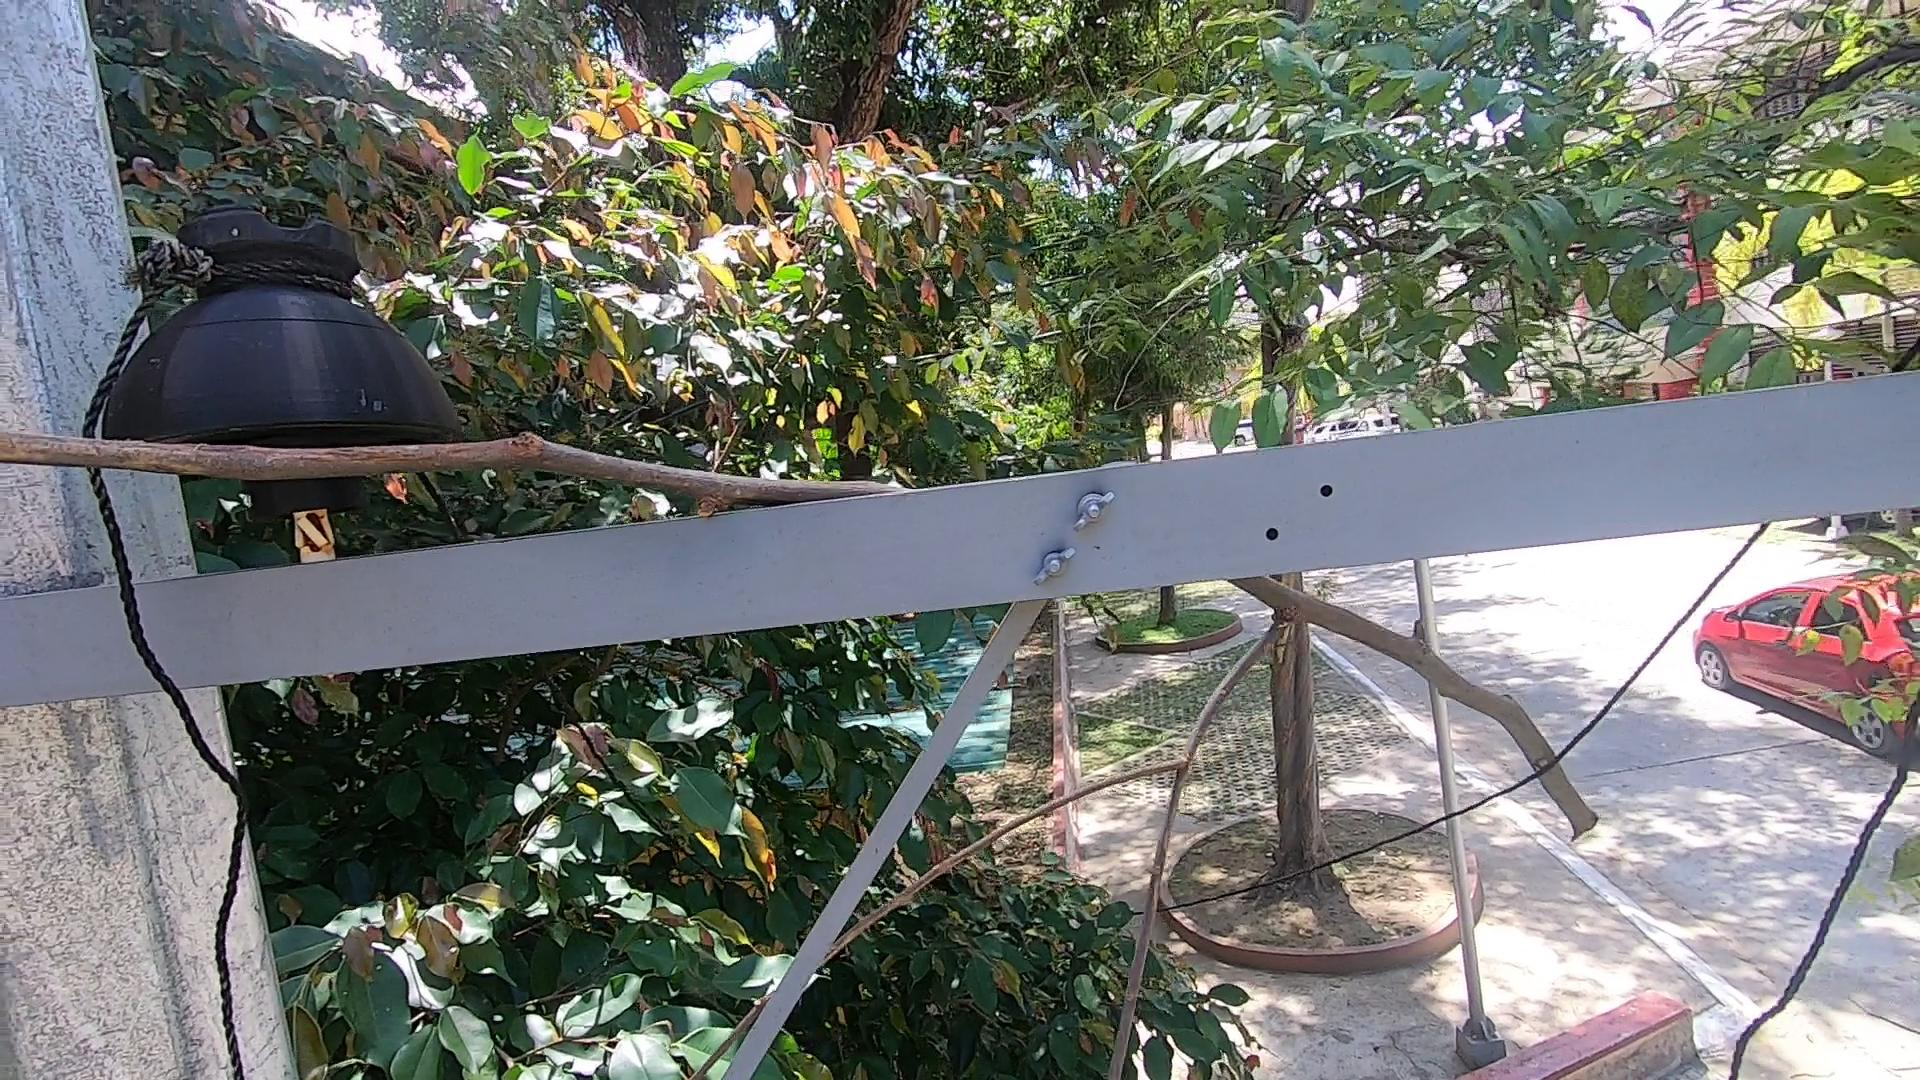tree branch: (673, 575, 1735, 1075), (4, 401, 916, 488)
